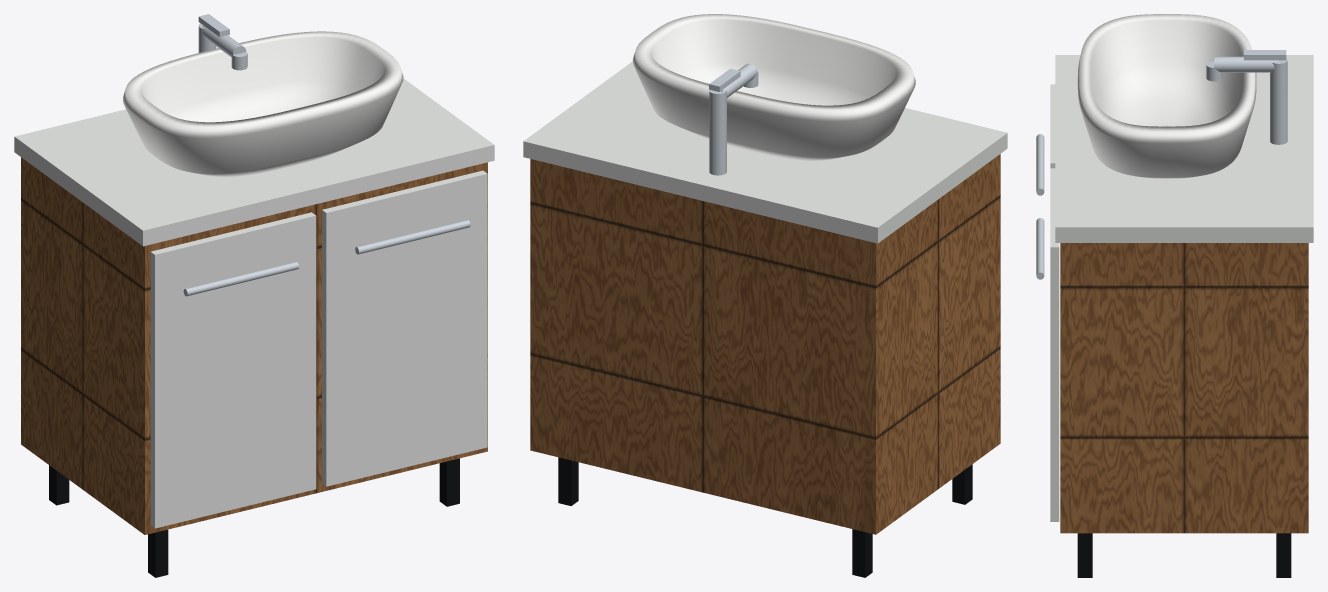
Rendered from Mosdoszekreny_80.obj.
3 views of the same model, side by side, from view 1: azimuth 30°, elevation 25°; view 2: azimuth 150°, elevation 25°; view 3: azimuth 270°, elevation 25° (orthographic).
Size of the model in its own units: 0.82 by 1 by 0.558.
Materials: 5 (1 with a texture image).
